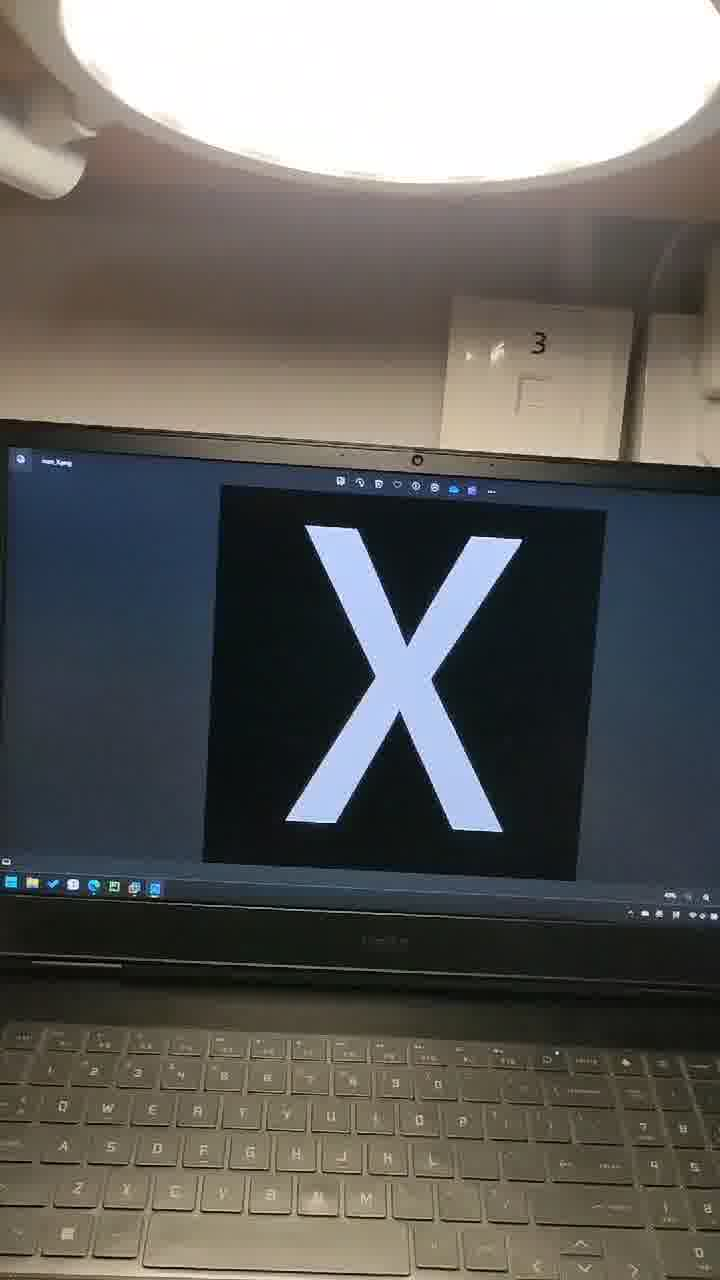X: (236, 447, 565, 888)
